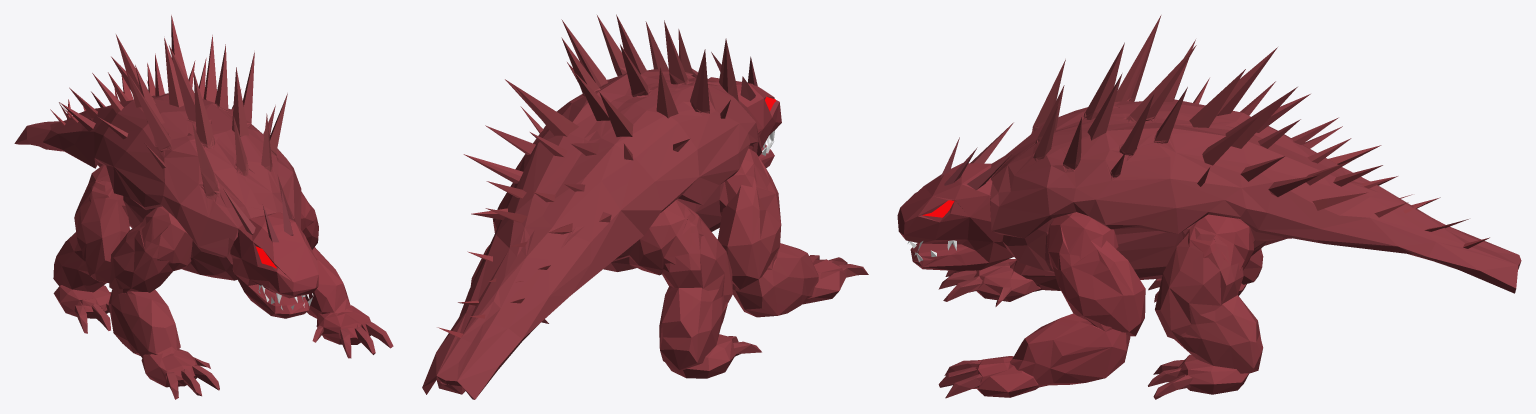
File: Enemy_Dinozavr_NO_Anim_5K_TRIS.glb
3 views of the same model, side by side, from view 1: azimuth 30°, elevation 25°; view 2: azimuth 150°, elevation 25°; view 3: azimuth 270°, elevation 25° (orthographic). The views are drawn at different scales.
Visible parts, largest first — view 1: Enemy_Dinozavr_Mesh.003; view 2: Enemy_Dinozavr_Mesh.003; view 3: Enemy_Dinozavr_Mesh.003.
Boxes of the visible parts, x1,y1,x2,y2 form: Enemy_Dinozavr_Mesh.003: (14, 15, 393, 399); Enemy_Dinozavr_Mesh.003: (422, 14, 868, 399); Enemy_Dinozavr_Mesh.003: (897, 15, 1521, 399).
Size of the model in its own units: 2.17 by 2.39 by 4.57.
Materials: 2 (1 with a texture image).
